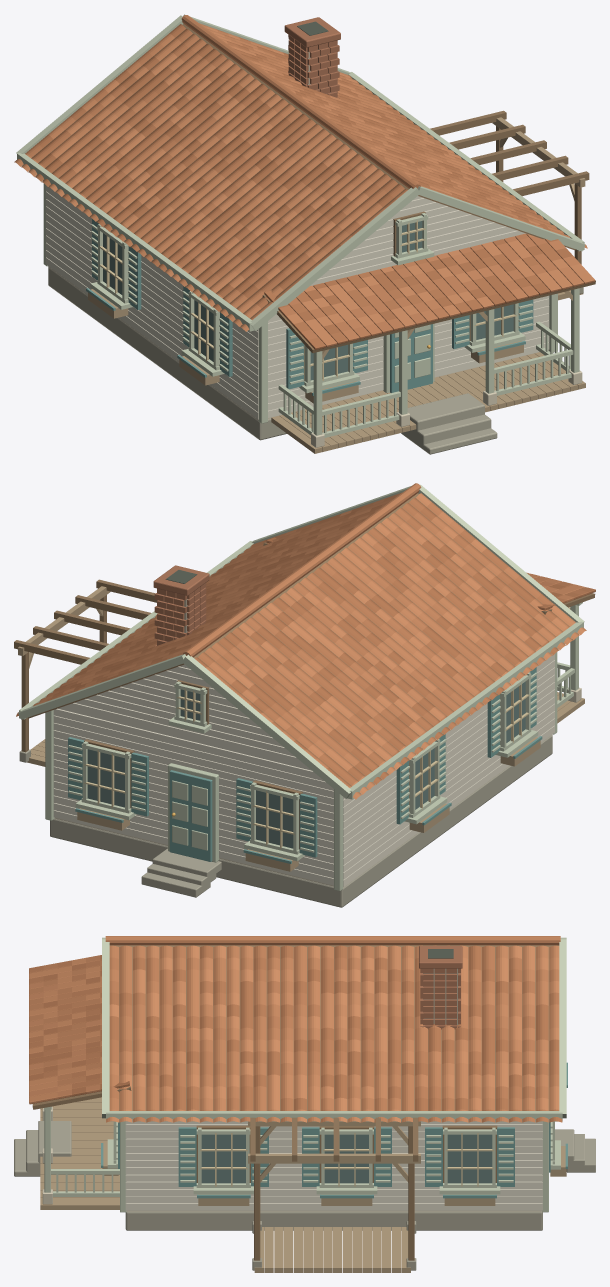
File: SM_HippieCoupleHouse_Blockout.fbx
3 renders of one model, top to bottom at view 1: azimuth 30°, elevation 25°; view 2: azimuth 150°, elevation 25°; view 3: azimuth 270°, elevation 25°, orthographic.
Visible parts, largest first — view 1: EXPORT_Main roof underlay, EXPORT_Stone foundation, EXPORT_Eaves fascia, EXPORT_Gable fascia, EXPORT_Front stone step.002, EXPORT_Gable fascia.002, EXPORT_Eaves fascia.001, EXPORT_Gable fascia.001, EXPORT_Front stone step.001, EXPORT_Painted timber door, EXPORT_Horizontal painted clapboard, EXPORT_Porch roof backing (+38 smaller); view 2: EXPORT_Stone foundation, EXPORT_Main roof underlay, EXPORT_Eaves fascia, EXPORT_Gable fascia.001, EXPORT_Horizontal painted clapboard.025, EXPORT_Horizontal painted clapboard.027, EXPORT_Horizontal painted clapboard.029, EXPORT_Painted timber door.001, EXPORT_Gable board.011, EXPORT_Gable fascia.003, EXPORT_Rear window glass.001, EXPORT_Rear window glass (+48 smaller); view 3: EXPORT_Stone foundation, EXPORT_Main roof underlay.001, EXPORT_Eaves fascia.001, EXPORT_Side painted clapboard.001, EXPORT_Right window glass.002, EXPORT_Side painted clapboard.003, EXPORT_Right window glass, EXPORT_Side painted clapboard.005, EXPORT_Pergola beam.001, EXPORT_Right window glass.001, EXPORT_Gable fascia.003, EXPORT_Side painted clapboard.023 (+49 smaller).
Boxes of the visible parts, left/top/right/bottom form: EXPORT_Main roof underlay: left=31, top=24, right=408, bottom=318; EXPORT_Stone foundation: left=48, top=266, right=553, bottom=440; EXPORT_Eaves fascia: left=17, top=153, right=254, bottom=331; EXPORT_Gable fascia: left=250, top=187, right=419, bottom=330; EXPORT_Front stone step.002: left=401, top=393, right=484, bottom=440; EXPORT_Gable fascia.002: left=417, top=186, right=584, bottom=251; EXPORT_Eaves fascia.001: left=348, top=72, right=584, bottom=251; EXPORT_Gable fascia.001: left=16, top=15, right=183, bottom=153; EXPORT_Front stone step.001: left=407, top=414, right=491, bottom=446; EXPORT_Painted timber door: left=390, top=324, right=432, bottom=392; EXPORT_Horizontal painted clapboard: left=268, top=342, right=549, bottom=417; EXPORT_Porch roof backing: left=262, top=280, right=595, bottom=353; EXPORT_Stone foundation: left=50, top=735, right=552, bottom=907; EXPORT_Main roof underlay: left=193, top=493, right=569, bottom=785; EXPORT_Eaves fascia: left=347, top=621, right=583, bottom=799; EXPORT_Gable fascia.001: left=182, top=654, right=350, bottom=798; EXPORT_Horizontal painted clapboard.025: left=53, top=723, right=333, bottom=798; EXPORT_Horizontal painted clapboard.027: left=53, top=715, right=333, bottom=790; EXPORT_Horizontal painted clapboard.029: left=53, top=708, right=324, bottom=781; EXPORT_Painted timber door.001: left=169, top=770, right=212, bottom=861; EXPORT_Gable board.011: left=63, top=703, right=306, bottom=766; EXPORT_Gable fascia.003: left=18, top=654, right=185, bottom=719; EXPORT_Rear window glass.001: left=87, top=749, right=124, bottom=807; EXPORT_Rear window glass: left=256, top=790, right=293, bottom=848; EXPORT_Stone foundation: left=125, top=1211, right=542, bottom=1230; EXPORT_Main roof underlay.001: left=109, top=945, right=559, bottom=1110; EXPORT_Eaves fascia.001: left=106, top=1111, right=562, bottom=1121; EXPORT_Side painted clapboard.001: left=125, top=1203, right=542, bottom=1210; EXPORT_Right window glass.002: left=447, top=1134, right=492, bottom=1183; EXPORT_Side painted clapboard.003: left=125, top=1196, right=542, bottom=1203; EXPORT_Right window glass: left=201, top=1134, right=245, bottom=1183; EXPORT_Side painted clapboard.005: left=125, top=1189, right=542, bottom=1196; EXPORT_Pergola beam.001: left=248, top=1153, right=420, bottom=1163; EXPORT_Right window glass.001: left=324, top=1134, right=368, bottom=1183; EXPORT_Gable fascia.003: left=559, top=939, right=566, bottom=1118; EXPORT_Side painted clapboard.023: left=125, top=1124, right=542, bottom=1131.
Bounding box in the file's own units: 1136 × 1395 × 632.
